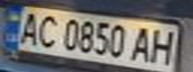0: (106, 21, 130, 60), (57, 16, 81, 52)
5: (90, 20, 112, 56)
8: (75, 18, 96, 54)
A: (127, 24, 157, 63), (12, 9, 42, 46)
C: (33, 11, 63, 48)
H: (145, 26, 178, 65)
